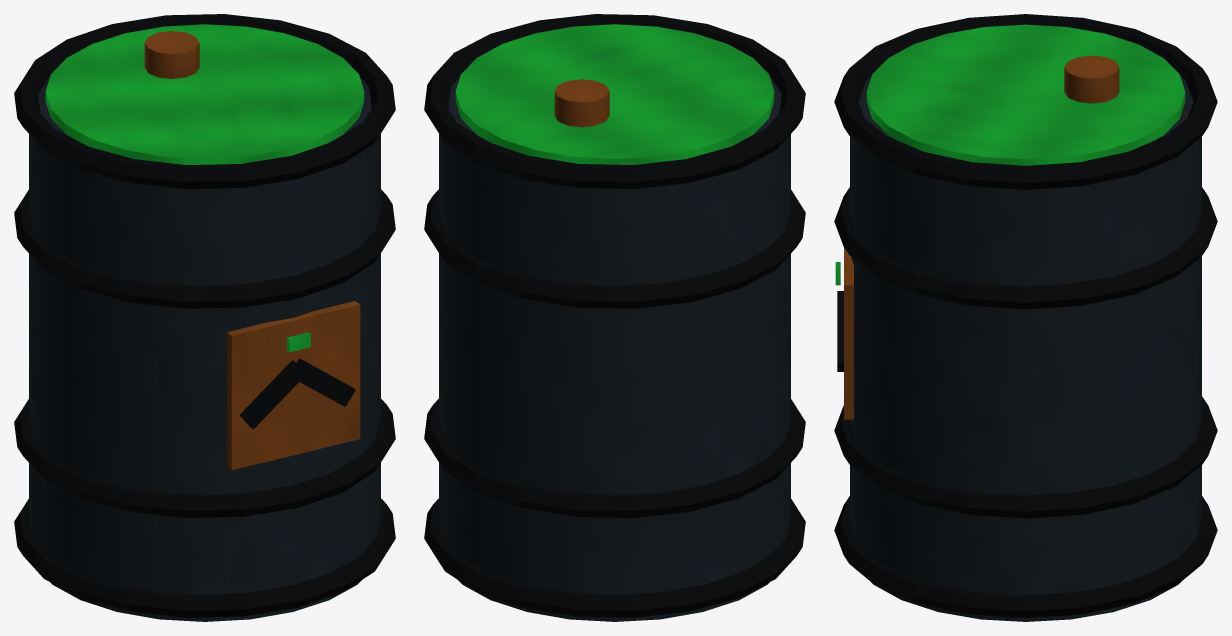
Rendered from explosive_barrel.glb.
The picture shows the model from 3 angles, left to right: view 1: azimuth 30°, elevation 25°; view 2: azimuth 150°, elevation 25°; view 3: azimuth 270°, elevation 25°; orthographic projection.
Visible parts, largest first — view 1: explosive_barrel; view 2: explosive_barrel; view 3: explosive_barrel.
Part boxes in pixels (x1=…): explosive_barrel: x1=14, y1=14, x2=395, y2=621; explosive_barrel: x1=424, y1=14, x2=805, y2=621; explosive_barrel: x1=834, y1=14, x2=1217, y2=621.
Size of the model in its own units: 0.698 by 0.965 by 0.698.
4 materials, 4 textured.
